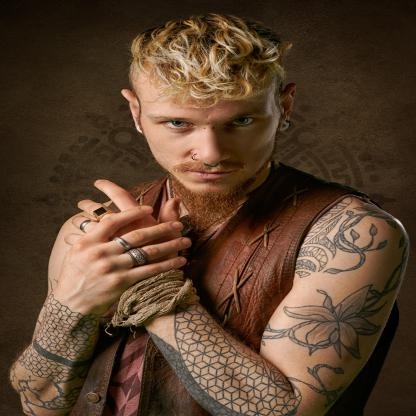Eye: (227, 116, 258, 127), (159, 120, 194, 129)
Mouth: (185, 169, 236, 180)
Nose: (192, 128, 232, 165)
